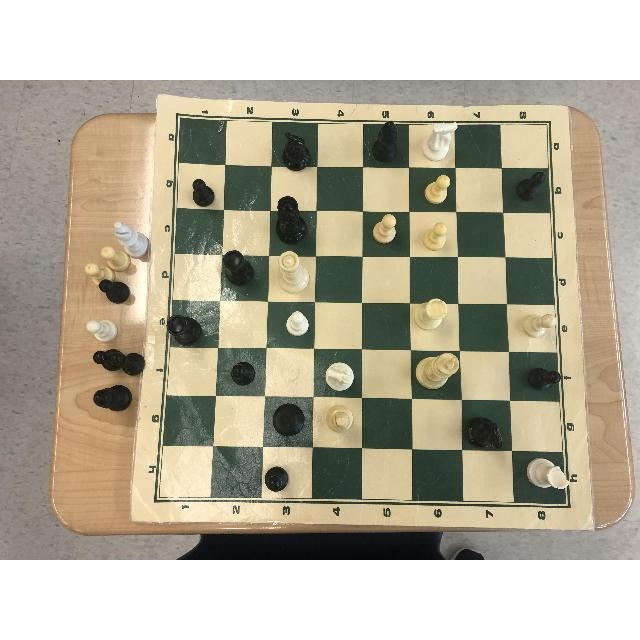black-bishop: (374, 122, 398, 162)
black-king: (273, 404, 304, 435)
black-knight: (466, 417, 502, 449), (283, 131, 309, 171)
black-pawn: (517, 172, 546, 200), (528, 367, 559, 391), (192, 179, 214, 206), (265, 467, 289, 491), (232, 362, 256, 385)
black-queen: (275, 196, 305, 244)
black-rook: (167, 313, 201, 344), (224, 249, 254, 284)
white-bishop: (327, 405, 353, 431)
white-king: (416, 353, 460, 389)
white-knight: (422, 122, 458, 161), (326, 363, 354, 391)
white-pawn: (523, 313, 556, 339), (424, 176, 449, 204), (423, 222, 447, 249), (374, 214, 396, 243), (287, 310, 309, 335)
white-queen: (278, 252, 309, 292)
white-rook: (526, 458, 569, 489), (414, 299, 448, 330)
